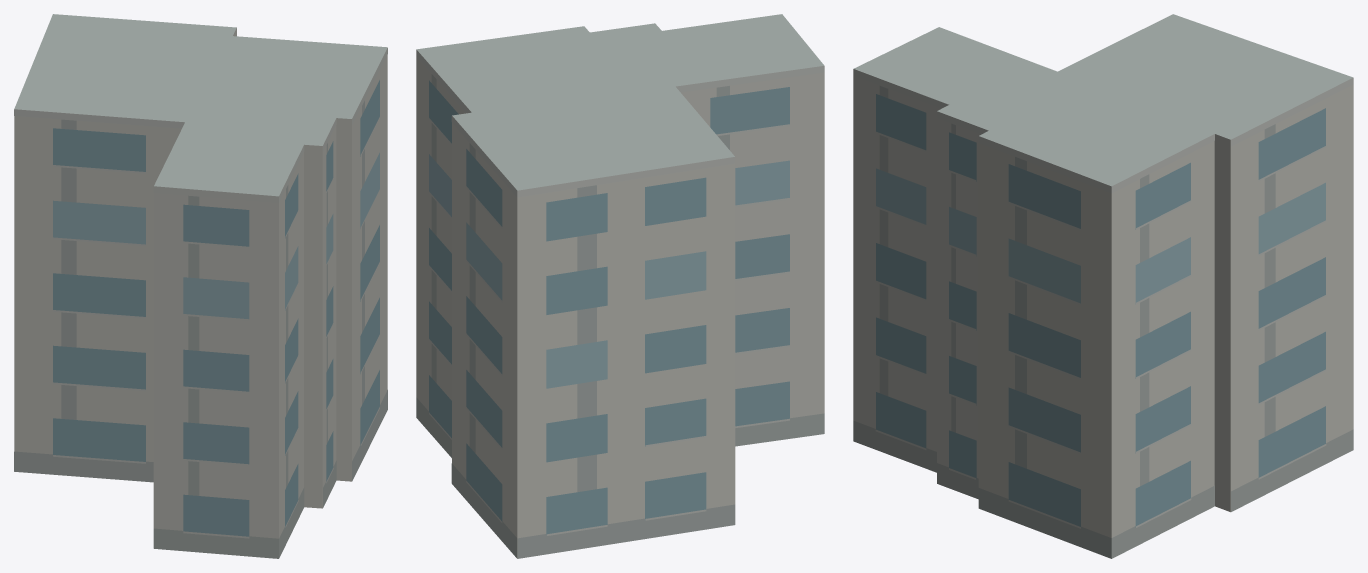
File: survey-upis-32778876.glb
3 views of the same model, side by side, from view 1: azimuth 30°, elevation 25°; view 2: azimuth 150°, elevation 25°; view 3: azimuth 270°, elevation 25° (orthographic). The views are drawn at different scales.
Visible parts, largest first — view 1: survey-upis-32778876.tmp; view 2: survey-upis-32778876.tmp; view 3: survey-upis-32778876.tmp.
Part boxes in pixels (x1,y1,x2,y2): survey-upis-32778876.tmp: (14,14,387,558); survey-upis-32778876.tmp: (416,14,824,558); survey-upis-32778876.tmp: (853,14,1353,558).
Size of the model in its own units: 13.01 by 13.1 by 15.95.
